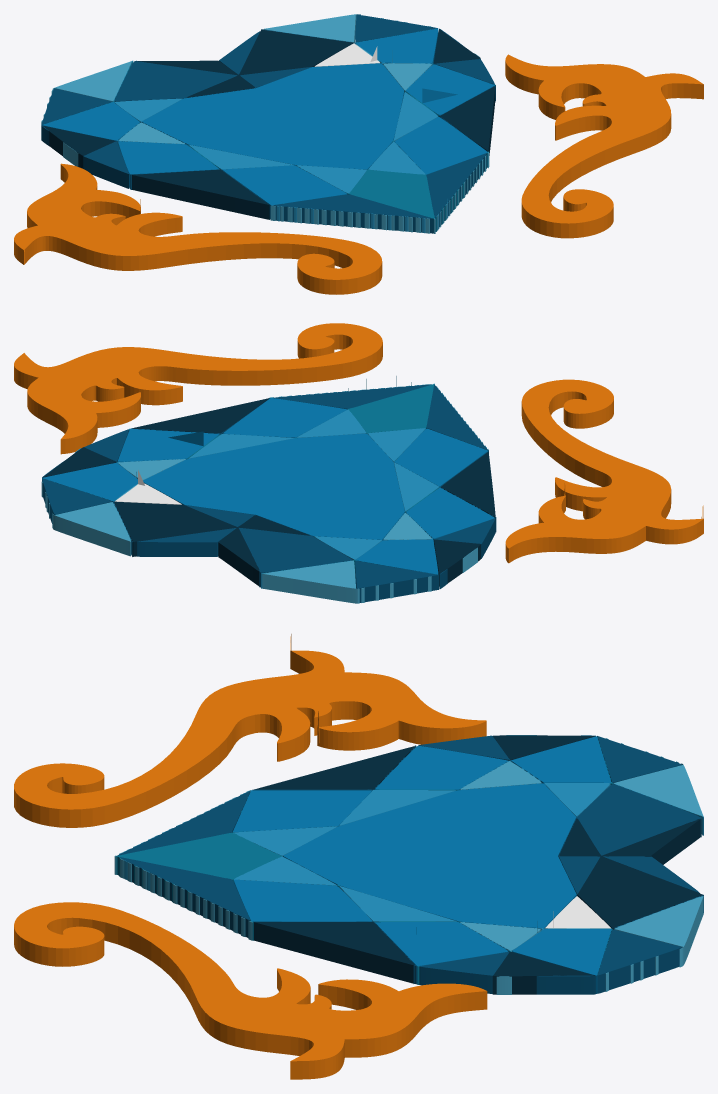
File: cadence.obj
3 renders of one model, top to bottom at view 1: azimuth 30°, elevation 25°; view 2: azimuth 150°, elevation 25°; view 3: azimuth 270°, elevation 25°, orthographic. The views are drawn at different scales.
Visible parts, largest first — view 1: path16; view 2: path16; view 3: path16.
Boxes of the visible parts, x1,y1,x2,y2 form: path16: [14, 14, 703, 294]; path16: [14, 323, 703, 603]; path16: [14, 634, 703, 1079].
Size of the model in its own units: 0.4779 by 0.02 by 0.3393.
